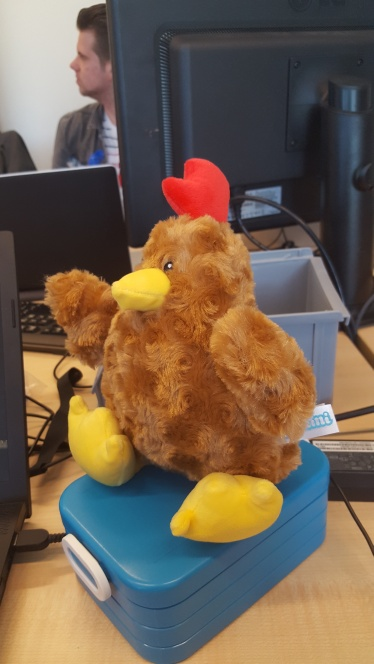chicken_right: (129, 157, 323, 545)
